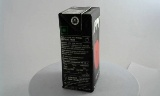appy: (54, 5, 94, 92)
